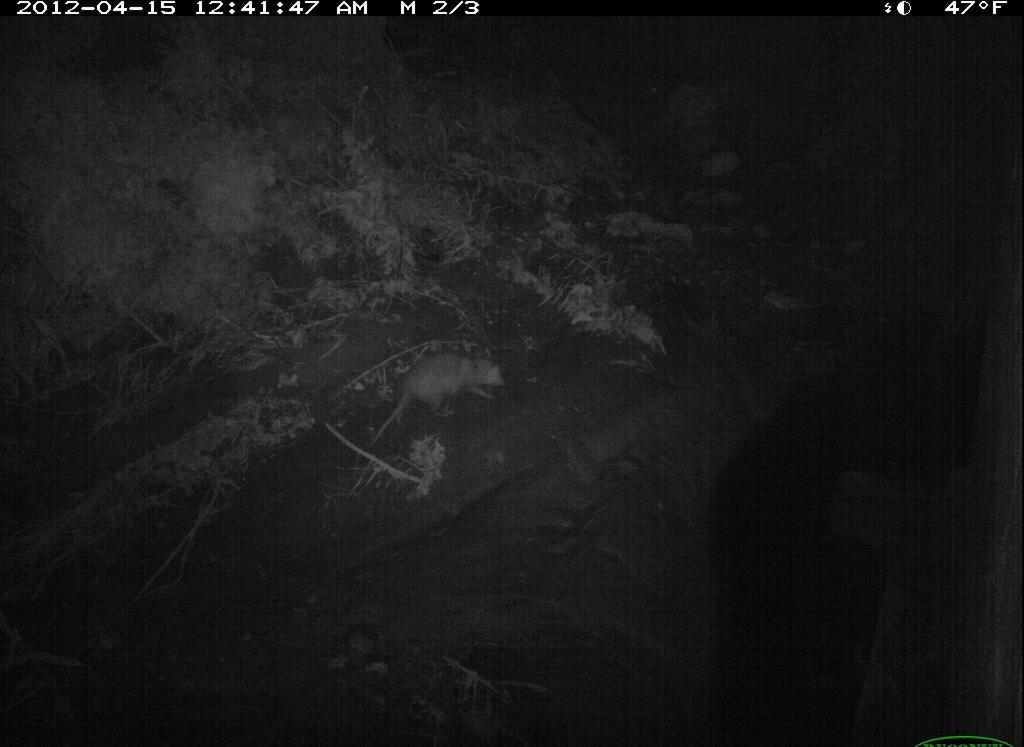opossum: (359, 345, 515, 457)
